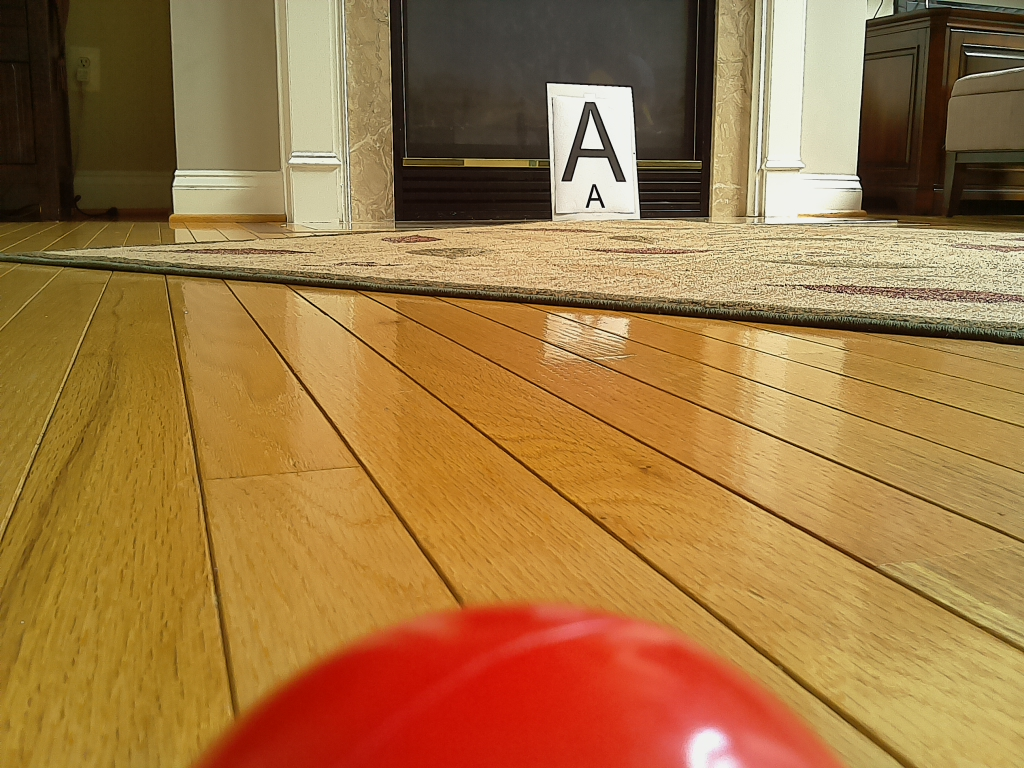letter: (561, 102, 628, 183)
